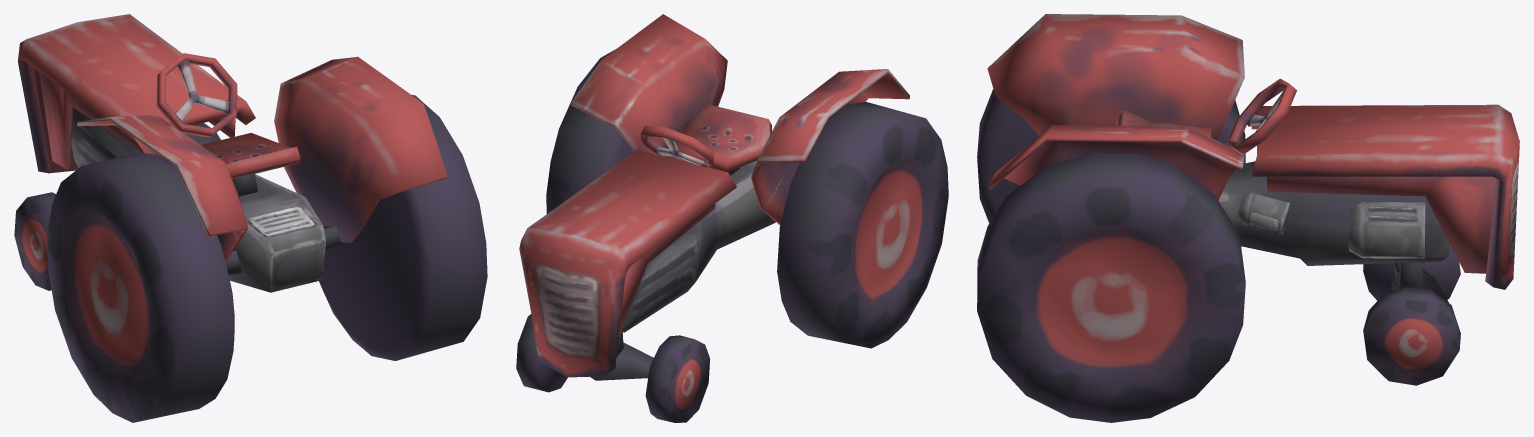
Rendered from tracteur.glb.
3 renders of one model, left to right at view 1: azimuth 30°, elevation 25°; view 2: azimuth 150°, elevation 25°; view 3: azimuth 270°, elevation 25°, orthographic. The views are drawn at different scales.
Visible parts, largest first — view 1: RoueLow, Plaque, Chassi; view 2: Plaque, RoueLow, Chassi; view 3: RoueLow, Plaque, Chassi.
Part boxes in pixels (x1,y1,x2,y2): RoueLow: (14, 94, 487, 422); Plaque: (17, 14, 447, 260); Chassi: (71, 53, 360, 292); Plaque: (519, 14, 909, 377); RoueLow: (516, 49, 948, 422); Chassi: (590, 104, 775, 380); RoueLow: (977, 89, 1460, 422); Plaque: (987, 14, 1519, 289); Chassi: (1116, 78, 1449, 302).
Bounding box in the file's own units: 0.8668 × 0.6833 × 1.24.
Materials: 3 (3 with a texture image).
